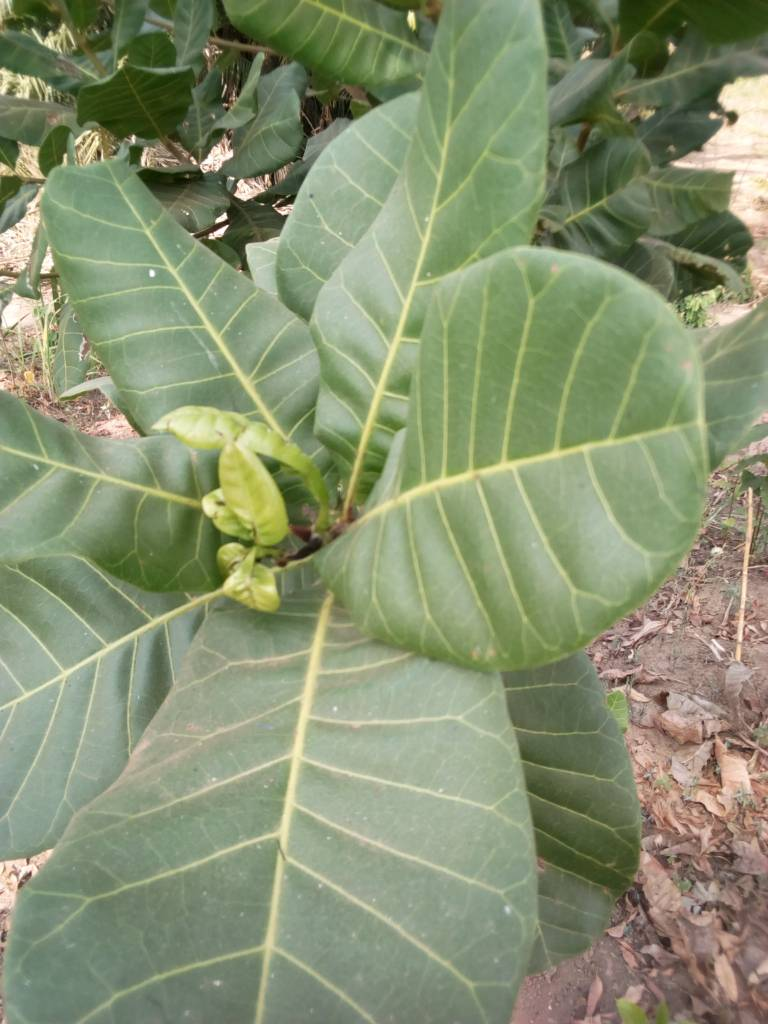Helopeltis anacardii: (208, 428, 299, 605), (77, 58, 194, 146)
